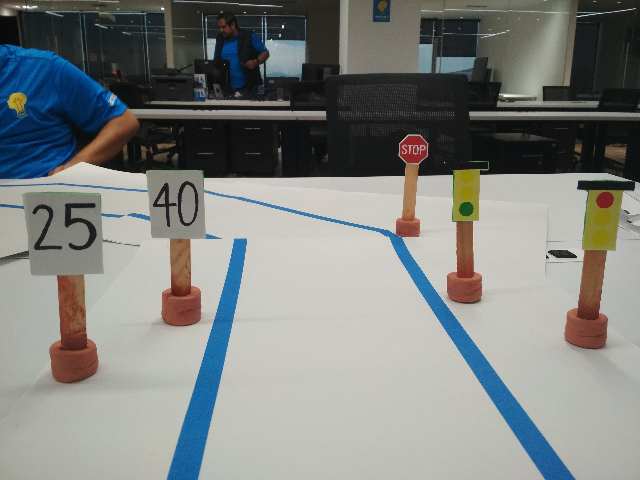Green Traffic Light: (438, 160, 492, 223)
Red Traffic Light: (573, 176, 636, 254)
Speed Limit 25: (21, 190, 108, 276)
Speed Limit 40: (144, 170, 208, 238)
Stop Sign: (397, 131, 428, 165)
